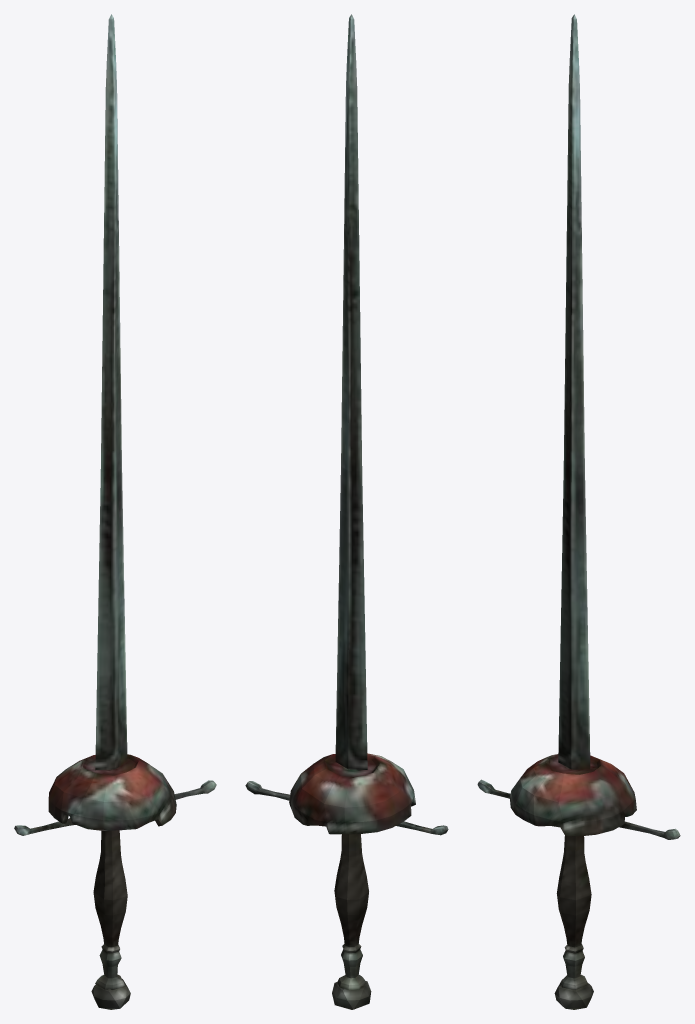
File: weapon-sinew.glb
3 renders of one model, left to right at view 1: azimuth 30°, elevation 25°; view 2: azimuth 150°, elevation 25°; view 3: azimuth 330°, elevation 25°, orthographic.
Visible parts, largest first — view 1: banditRapierRapier_MDL_q; view 2: banditRapierRapier_MDL_q; view 3: banditRapierRapier_MDL_q.
Boxes of the visible parts, x1,y1,x2,y2 form: banditRapierRapier_MDL_q: [14, 14, 216, 1009]; banditRapierRapier_MDL_q: [245, 14, 448, 1009]; banditRapierRapier_MDL_q: [477, 14, 680, 1009].
Bounding box in the file's own units: 0.3912 × 1.85 × 0.2119.
1 material, 1 textured.
